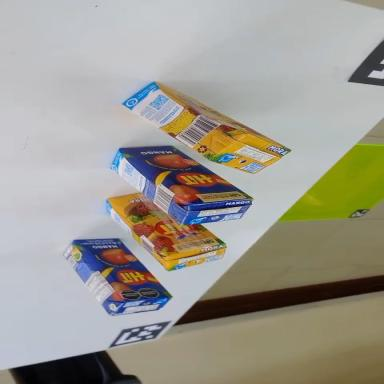HIT-MANGO: (102, 123, 255, 250), (56, 218, 172, 337)
HIT-MORA: (118, 71, 291, 191), (95, 172, 230, 291)
cara_F: (115, 123, 253, 231), (101, 169, 224, 279), (71, 218, 173, 322), (155, 79, 291, 155)
